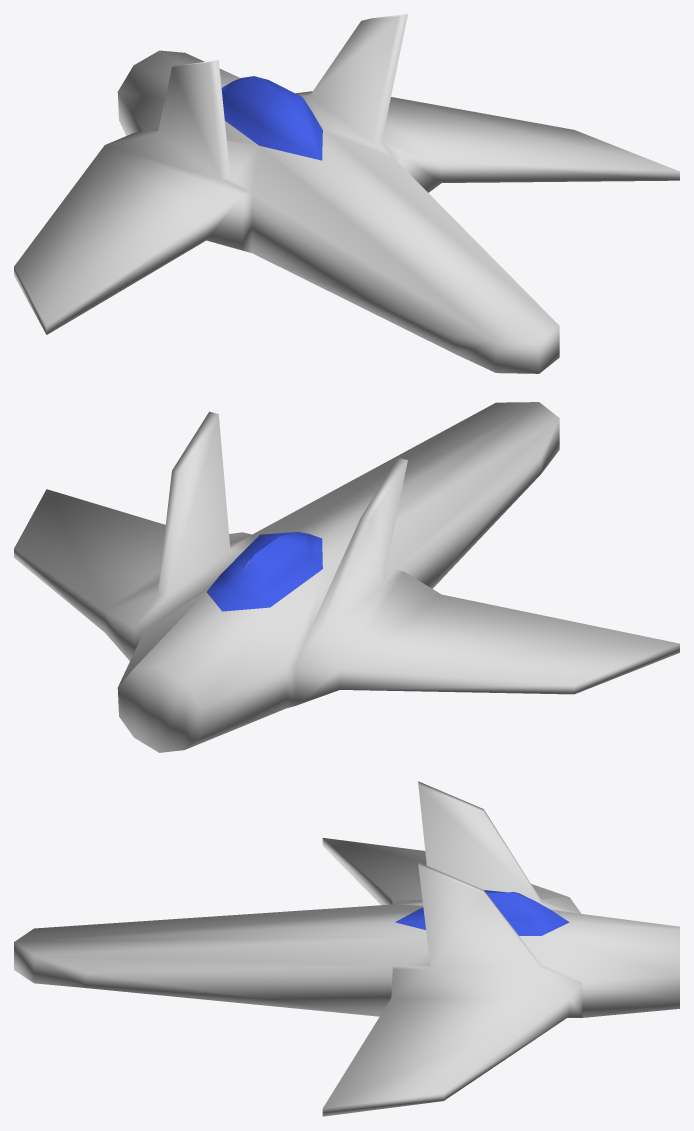
File: starterShip.gltf
3 views of the same model, one above another, from view 1: azimuth 30°, elevation 25°; view 2: azimuth 150°, elevation 25°; view 3: azimuth 270°, elevation 25° (orthographic). The views are drawn at different scales.
Visible parts, largest first — view 1: Cube; view 2: Cube; view 3: Cube.
Part boxes in pixels (x1=…): Cube: x1=14, y1=14, x2=679, y2=373; Cube: x1=14, y1=402, x2=679, y2=752; Cube: x1=14, y1=781, x2=679, y2=1116.
Size of the model in its own units: 6.95 by 2.18 by 7.22.
